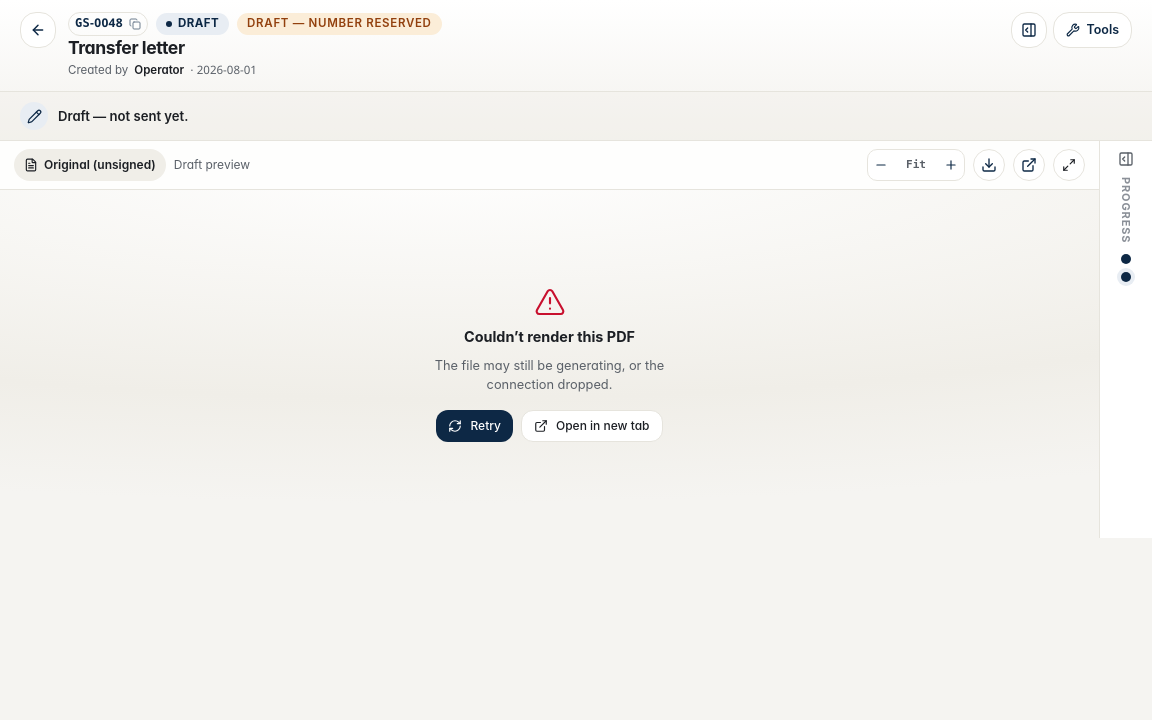
Test: BookRecordPage — Delete › confirm returns to the originating list and sends no request before 6 s
The width and height of the screenshot is (1152, 720).
What coordinates should you click on to do the following:
click the button "Tools"
I would click on:
 (1093, 30)
Its box is [1053,12,1132,48].
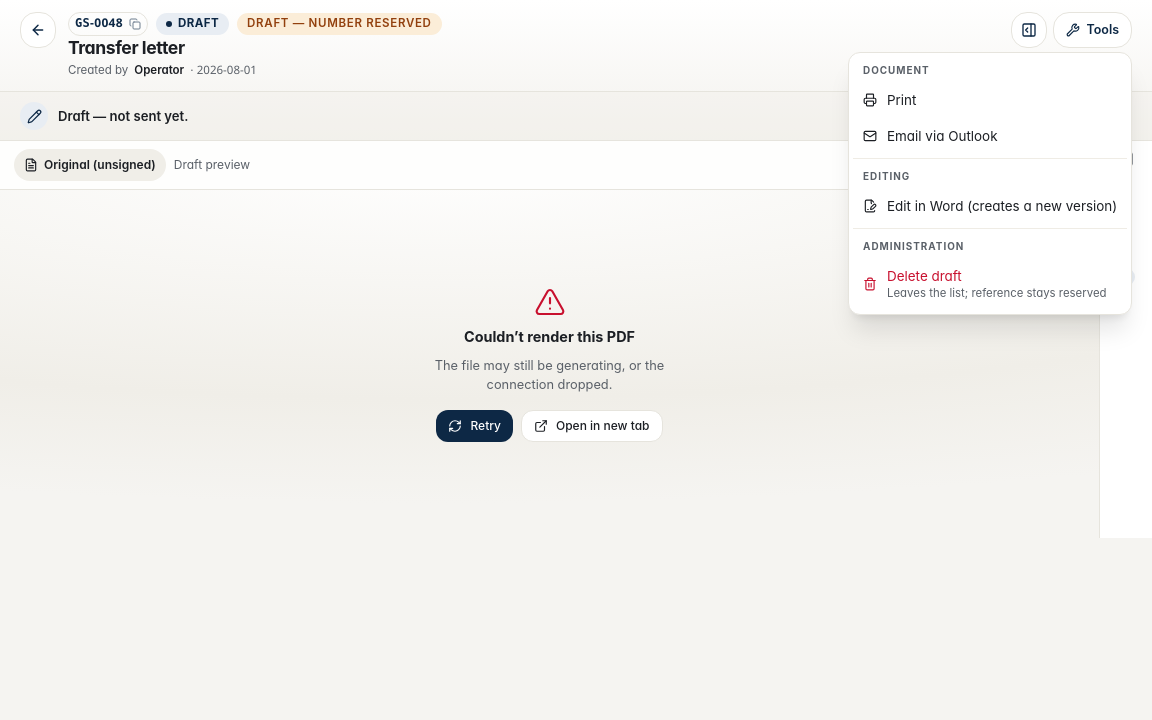
What coordinates should you click on to do the following:
click the menu item "Delete draft Leaves the list; reference stays reserved"
I would click on:
 (990, 284)
Its box is [853,258,1127,310].
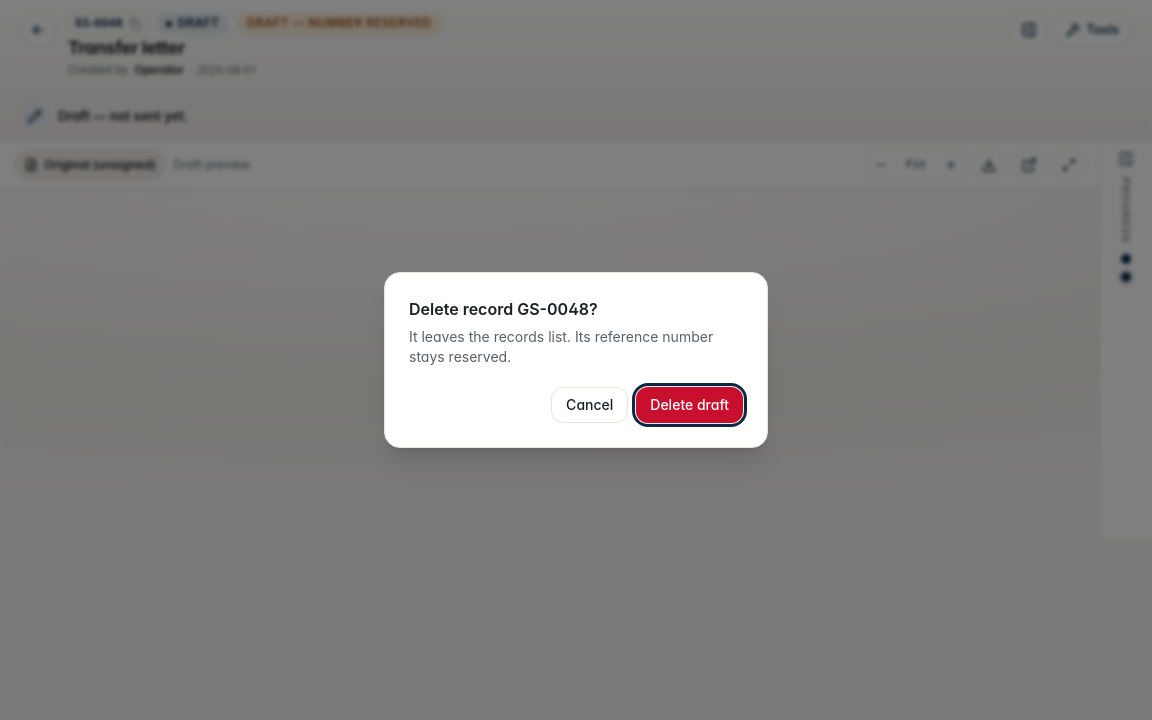
Check: the heading "Delete record GS-0048 ?" is shown, box [409,299,598,319]
What coordinates should you click on to do the following:
click the button "Delete draft"
I would click on:
 (690, 405)
Its box is [636,387,743,423].
Wait 6500 ms
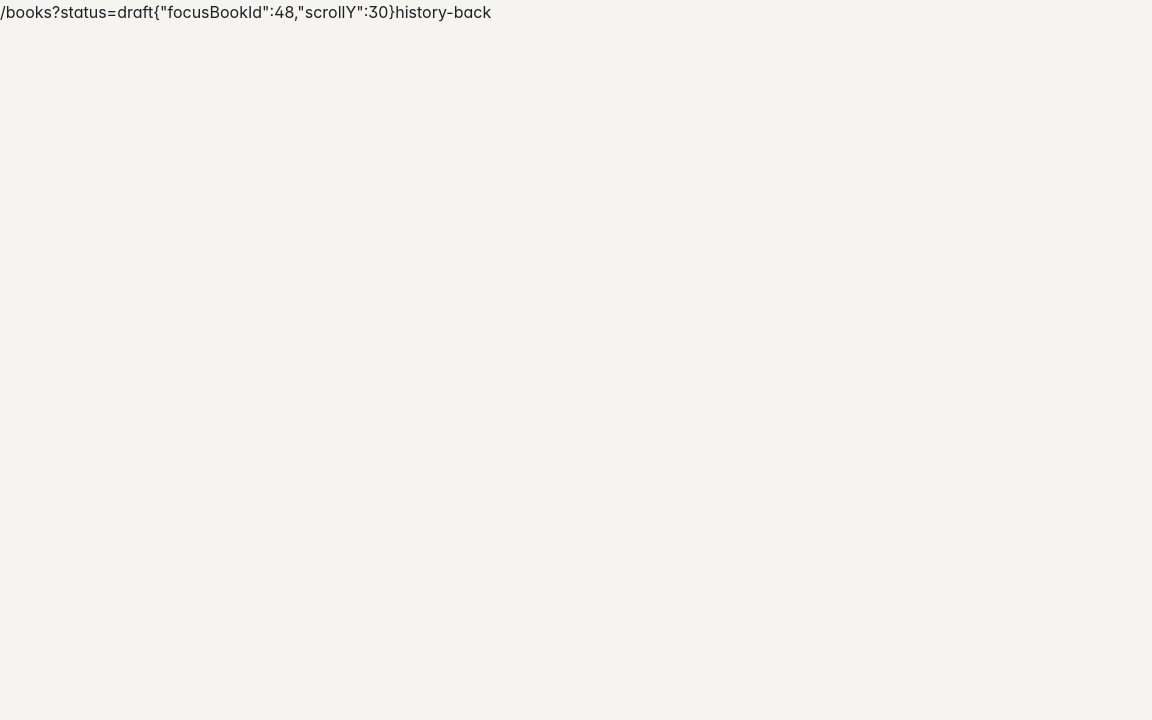
Check: the text with test id "loc" reads "/books?status=draft", box [0,2,153,22]
